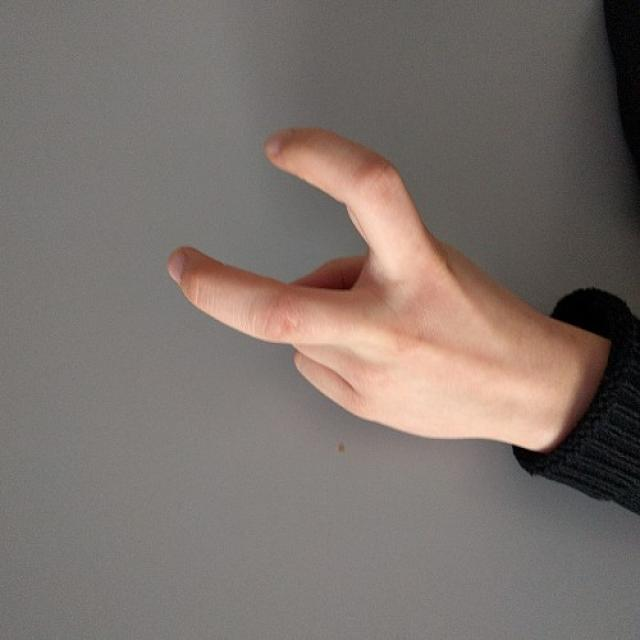scissors: (162, 122, 534, 452)
